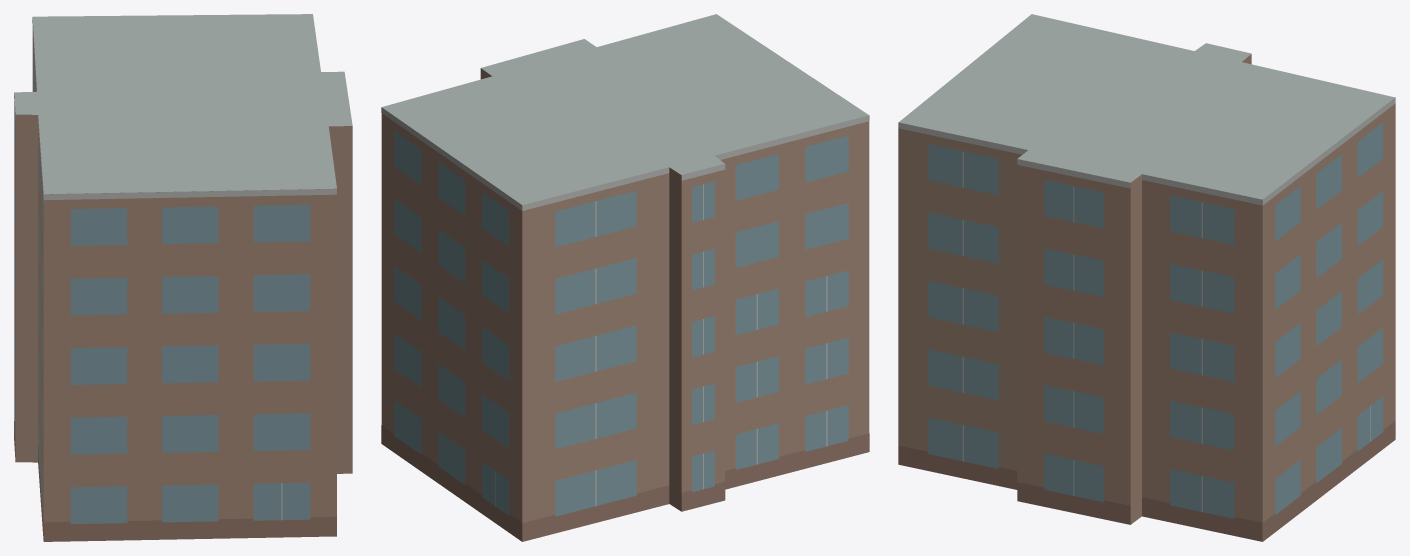
Rendered from survey-upis-32690606.glb.
The picture shows the model from 3 angles, left to right: view 1: azimuth 30°, elevation 25°; view 2: azimuth 150°, elevation 25°; view 3: azimuth 270°, elevation 25°; orthographic projection. The views are drawn at different scales.
Visible parts, largest first — view 1: survey-upis-32690606.tmp; view 2: survey-upis-32690606.tmp; view 3: survey-upis-32690606.tmp.
Boxes of the visible parts, <box> form: survey-upis-32690606.tmp: <box>14,14,352,541</box>; survey-upis-32690606.tmp: <box>381,14,869,541</box>; survey-upis-32690606.tmp: <box>898,14,1395,541</box>.
Bounding box in the file's own units: 16.56 × 14.22 × 18.73.
